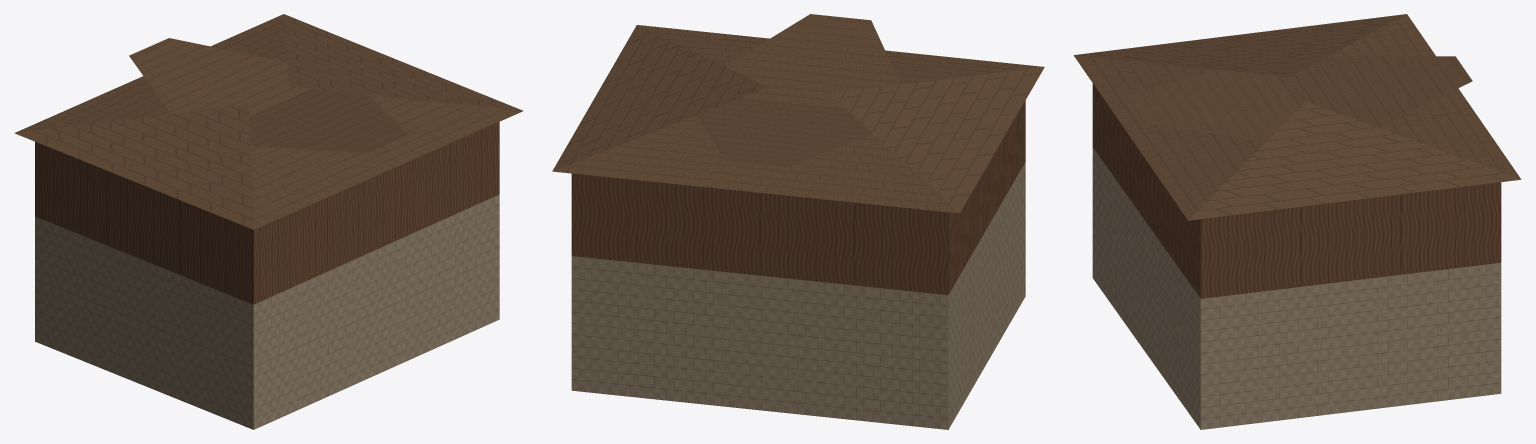
File: bld_c-21_-18_796.gltf
3 renders of one model, left to right at view 1: azimuth 30°, elevation 25°; view 2: azimuth 150°, elevation 25°; view 3: azimuth 270°, elevation 25°, orthographic. The views are drawn at different scales.
Visible parts, largest first — view 1: bld_c-21_-18_796; view 2: bld_c-21_-18_796; view 3: bld_c-21_-18_796.
Part boxes in pixels (x1,y1,x2,y2): bld_c-21_-18_796: (14,14,522,429); bld_c-21_-18_796: (552,14,1044,429); bld_c-21_-18_796: (1073,14,1521,429).
Size of the model in its own units: 15.85 by 8.8 by 14.51.
Materials: 3 (3 with a texture image).
